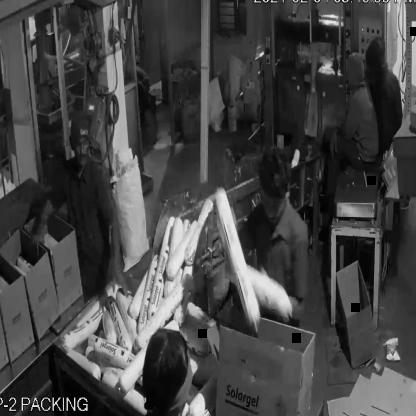no_glove: (102, 201, 136, 315), (32, 190, 64, 249)
